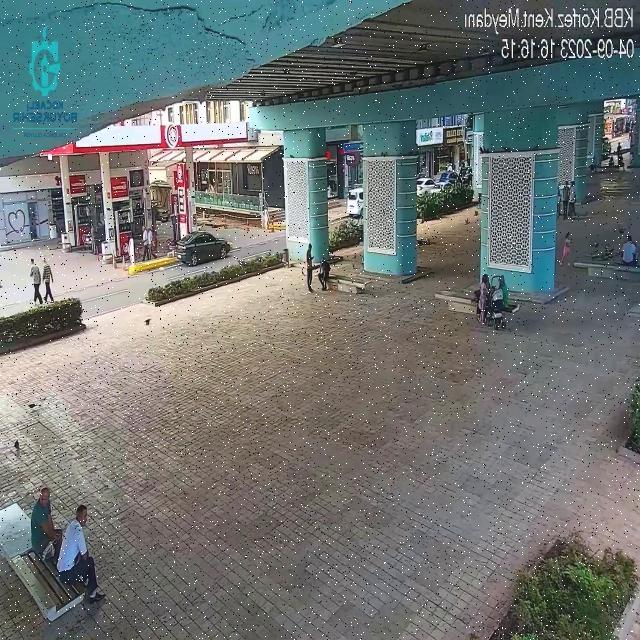Car: (174, 230, 232, 266), (416, 175, 443, 198), (438, 171, 465, 186)
Van: (346, 188, 364, 218)
